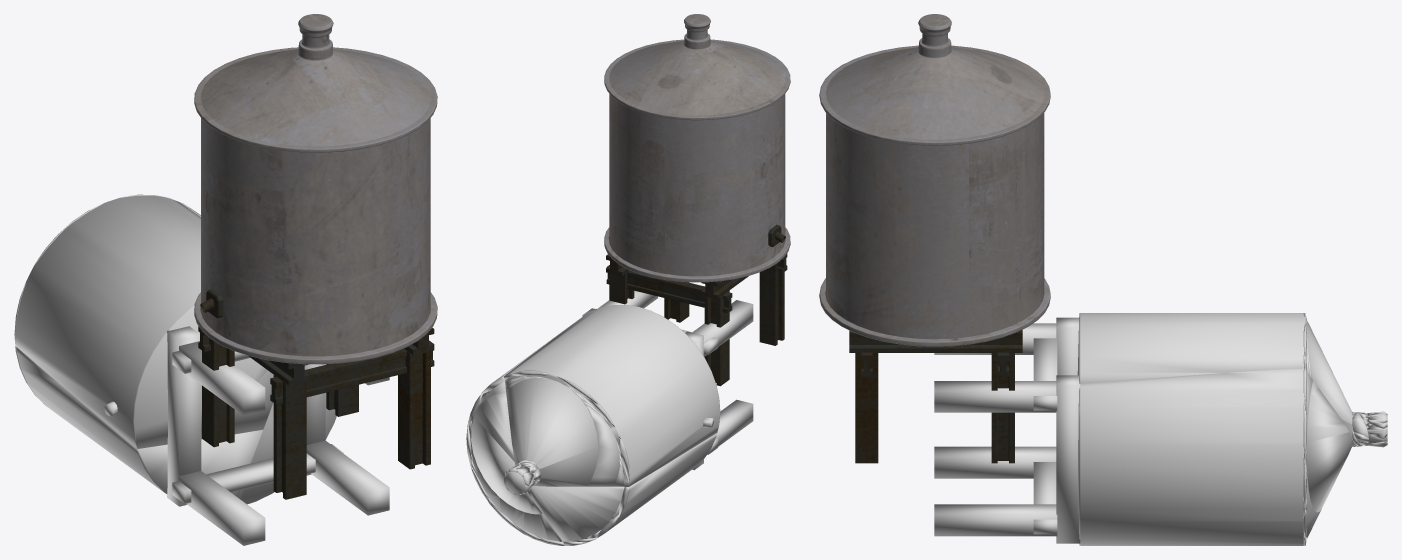
The model's file is SM_WaterContainer.fbx.
The picture shows the model from 3 angles, left to right: view 1: azimuth 30°, elevation 25°; view 2: azimuth 150°, elevation 25°; view 3: azimuth 270°, elevation 25°; orthographic projection. The views are drawn at different scales.
Visible parts, largest first — view 1: SM_WaterContainer, SM_WaterContainer_ConvexHulls; view 2: SM_WaterContainer, SM_WaterContainer_ConvexHulls; view 3: SM_WaterContainer_ConvexHulls, SM_WaterContainer.
Boxes of the visible parts, x1=… form: SM_WaterContainer: x1=194, y1=14, x2=437, y2=499; SM_WaterContainer_ConvexHulls: x1=14, y1=194, x2=389, y2=545; SM_WaterContainer: x1=604, y1=14, x2=790, y2=386; SM_WaterContainer_ConvexHulls: x1=466, y1=290, x2=753, y2=545; SM_WaterContainer_ConvexHulls: x1=934, y1=313, x2=1387, y2=545; SM_WaterContainer: x1=819, y1=14, x2=1050, y2=463.
Size of the model in its own units: 1.97 by 4.62 by 4.62.
